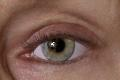eye: (43, 38, 75, 62)
